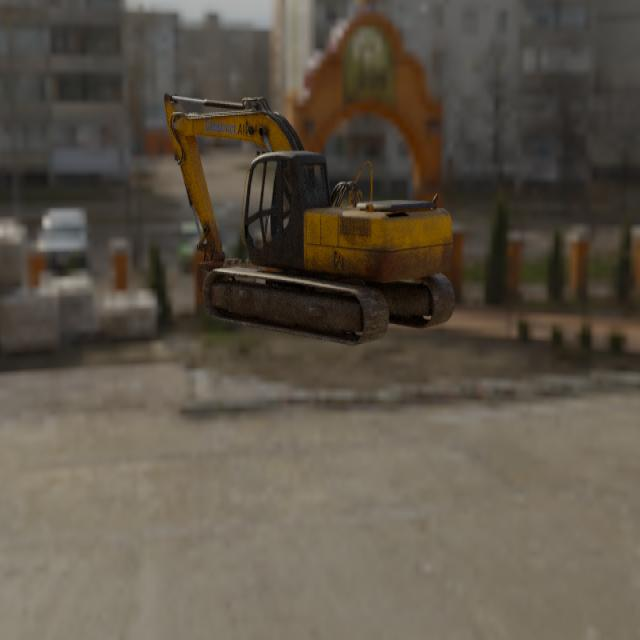excavator: (163, 92, 455, 345)
